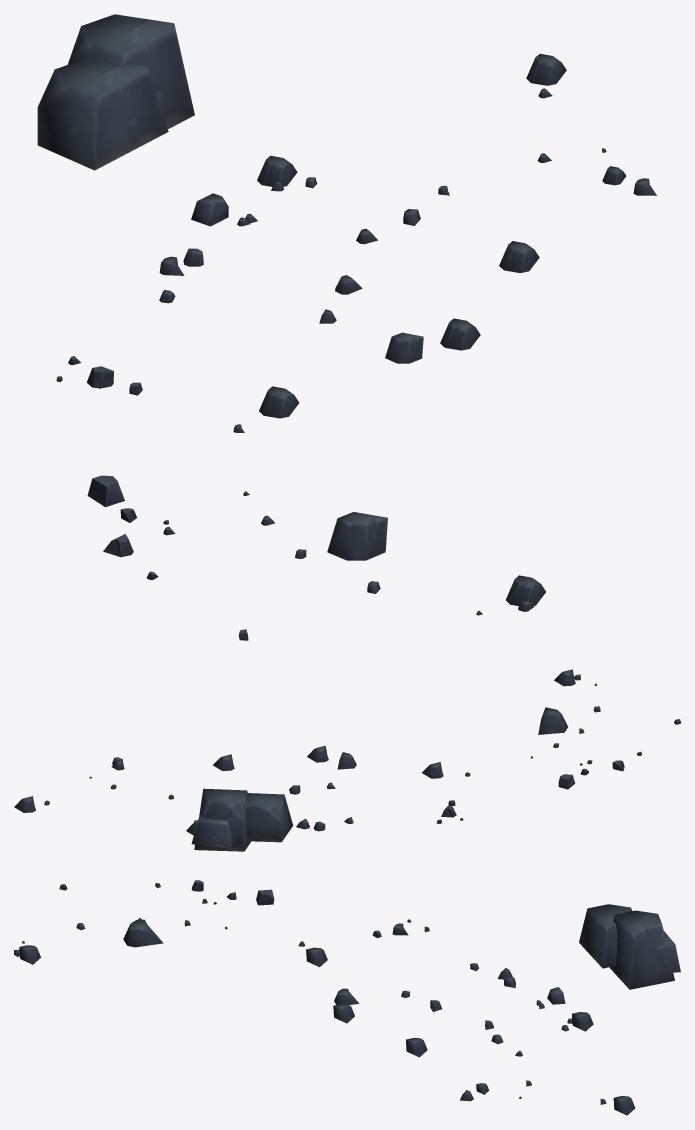
File: shitou09.fbx
3 renders of one model, top to bottom at view 1: azimuth 30°, elevation 25°; view 2: azimuth 150°, elevation 25°; view 3: azimuth 270°, elevation 25°, orthographic. The views are drawn at different scales.
Visible parts, largest first — view 1: shitou09; view 2: shitou09; view 3: shitou09.
Boxes of the visible parts, bbox=[...] form: shitou09: bbox=[37, 14, 656, 640]; shitou09: bbox=[14, 669, 680, 851]; shitou09: bbox=[14, 880, 680, 1115].
Bounding box in the file's own units: 11768 × 1858 × 14395.
